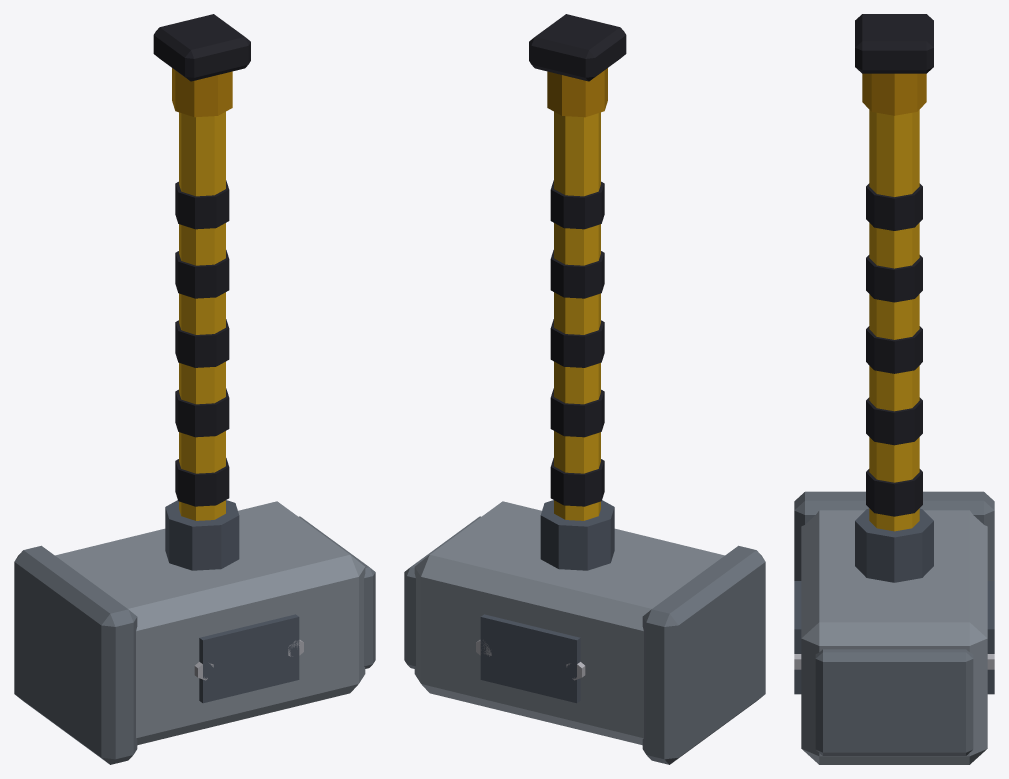
File: sledge.glb
The picture shows the model from 3 angles, left to right: view 1: azimuth 30°, elevation 25°; view 2: azimuth 150°, elevation 25°; view 3: azimuth 270°, elevation 25°; orthographic projection. The views are drawn at different scales.
Parts seen in each view (by area): view 1: sledge; view 2: sledge; view 3: sledge.
Part boxes in pixels (x1=…): sledge: x1=14, y1=14, x2=375, y2=764; sledge: x1=404, y1=14, x2=765, y2=764; sledge: x1=794, y1=14, x2=994, y2=764.
Bounding box in the file's own units: 0.94 × 2.12 × 0.5601.
